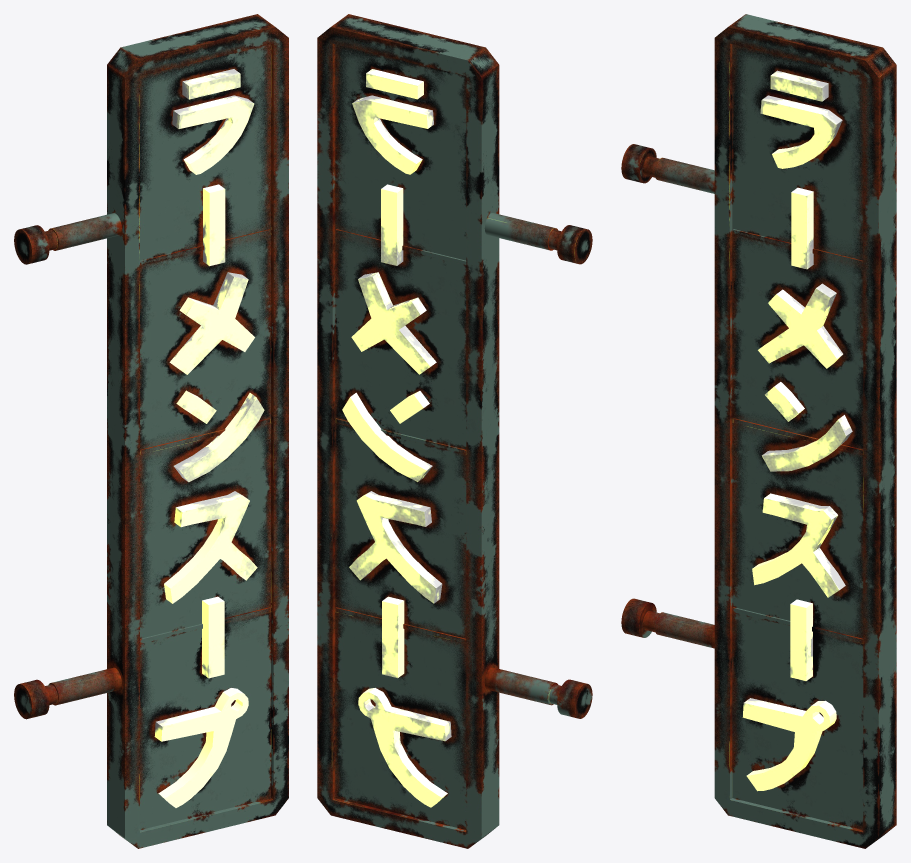
3 renders of one model, left to right at view 1: azimuth 30°, elevation 25°; view 2: azimuth 150°, elevation 25°; view 3: azimuth 330°, elevation 25°, orthographic.
Visible parts, largest first — view 1: Ramen_soup_neon; view 2: Ramen_soup_neon; view 3: Ramen_soup_neon.
Boxes of the visible parts, x1,y1,x2,y2 form: Ramen_soup_neon: [14, 14, 288, 848]; Ramen_soup_neon: [317, 14, 592, 848]; Ramen_soup_neon: [621, 14, 896, 848].
Bounding box in the file's own units: 0.686 × 2.01 × 0.1199.
Materials: 1 (1 with a texture image).
